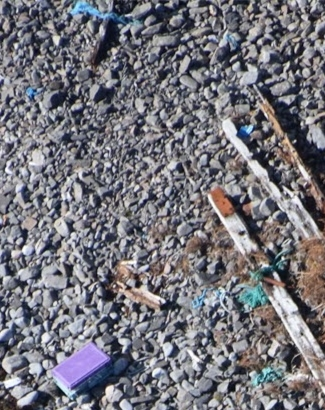net: (192, 257, 290, 309), (235, 347, 283, 387), (65, 1, 138, 27)
straight_bar: (205, 180, 325, 397), (219, 117, 325, 245), (251, 86, 325, 209)
white_in_green: (80, 232, 191, 339), (34, 325, 130, 410), (223, 105, 275, 151), (11, 73, 57, 113), (208, 21, 254, 61)
